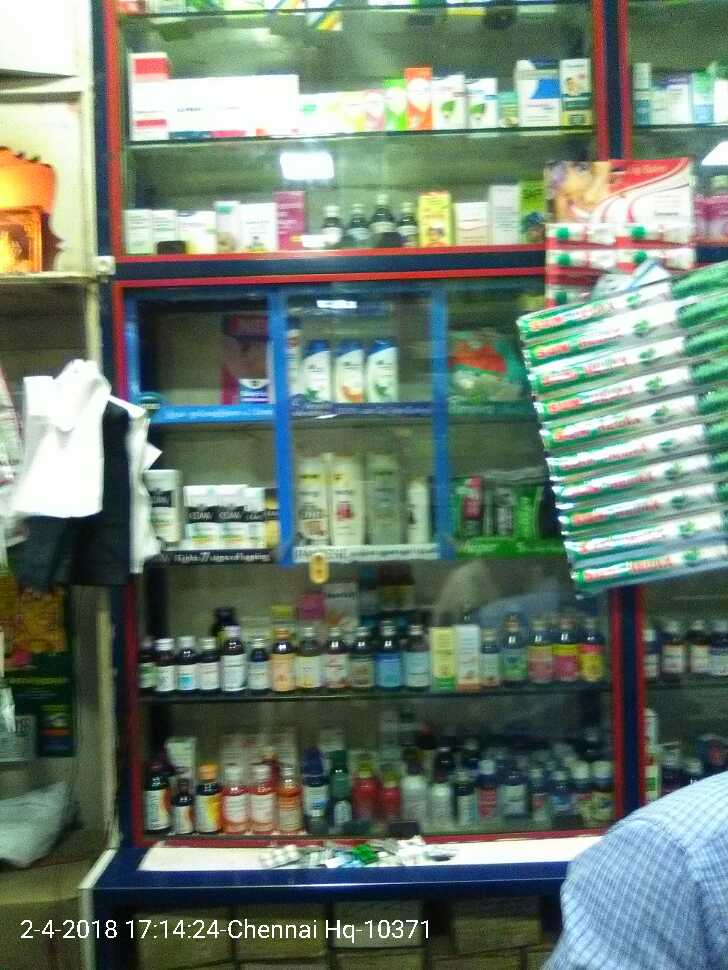vicks: (240, 376, 269, 407)
